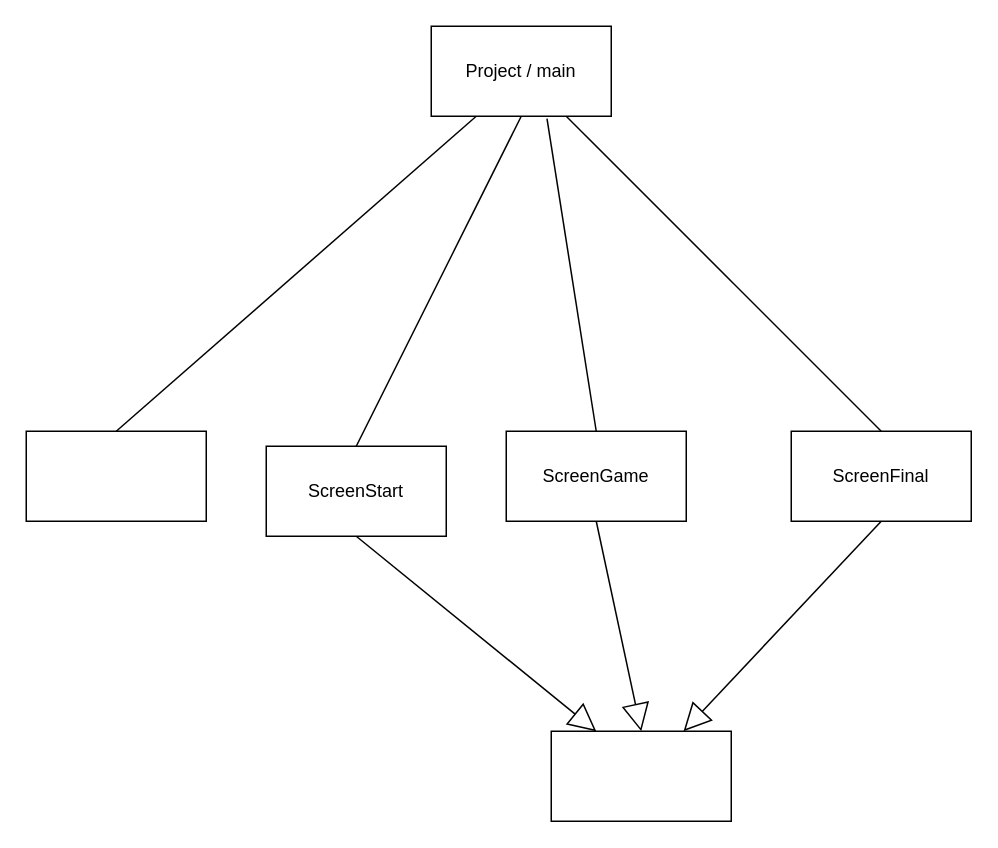
Some shapes in this 998 by 848 pixel diagram are drawn without their labels. The box of each missing label's shape, as (x1, y1, x2, y2) in pixels:
Screen: (550, 730, 731, 821)
WordlistManager: (25, 430, 206, 521)
